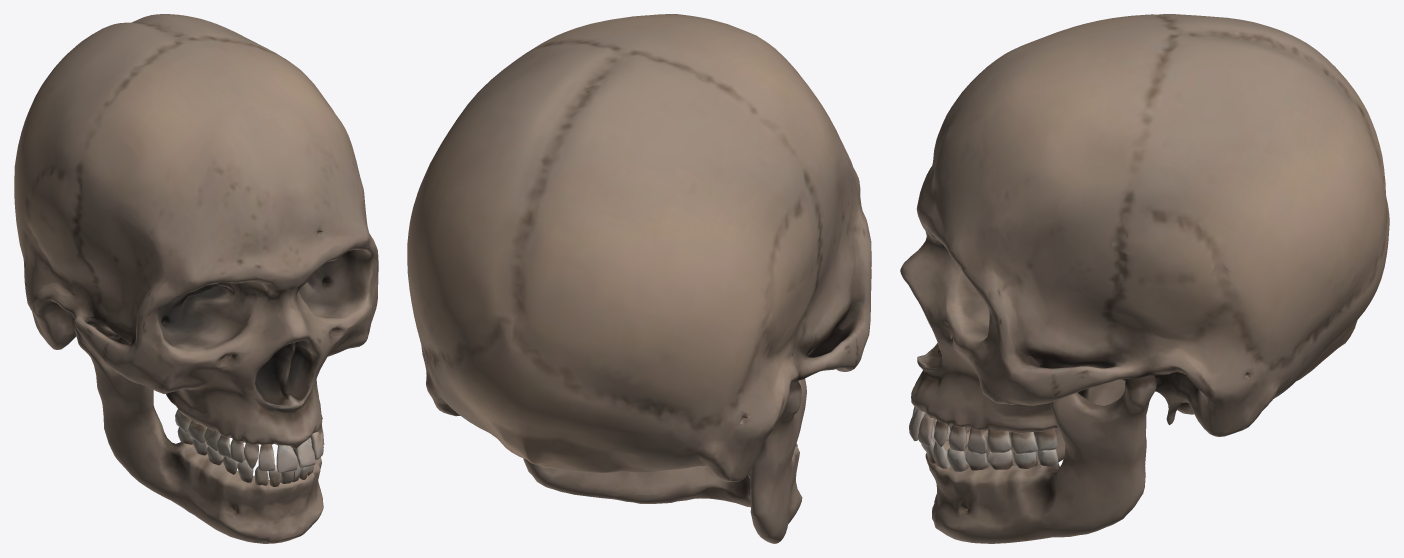
Rendered from skull-transformed.glb.
3 views of the same model, side by side, from view 1: azimuth 30°, elevation 25°; view 2: azimuth 150°, elevation 25°; view 3: azimuth 270°, elevation 25° (orthographic). The views are drawn at different scales.
Visible parts, largest first — view 1: Object_2; view 2: Object_2; view 3: Object_2.
Part boxes in pixels (bbox=[...]): Object_2: bbox=[14, 14, 378, 543]; Object_2: bbox=[407, 14, 871, 543]; Object_2: bbox=[900, 14, 1389, 543].
Bounding box in the file's own units: 1.34 × 2 × 1.79.
1 material, 1 textured.
